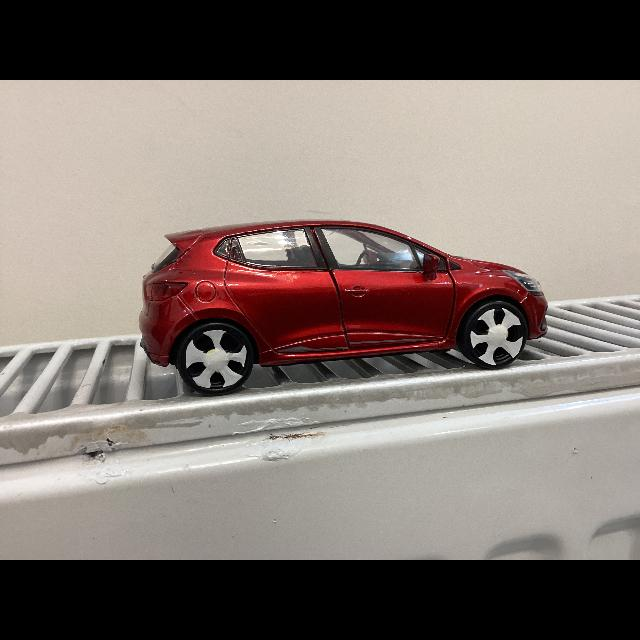Yanlis_Jant: (184, 330, 246, 390), (468, 308, 524, 367)
